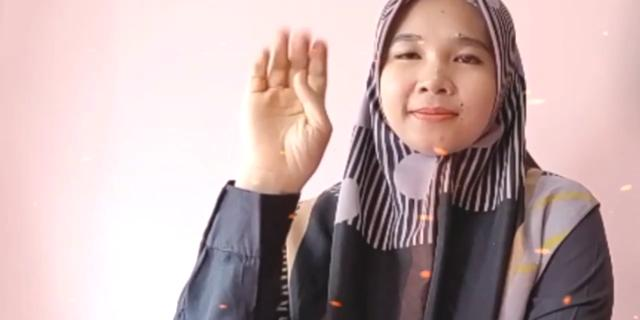B: (239, 22, 333, 172)
